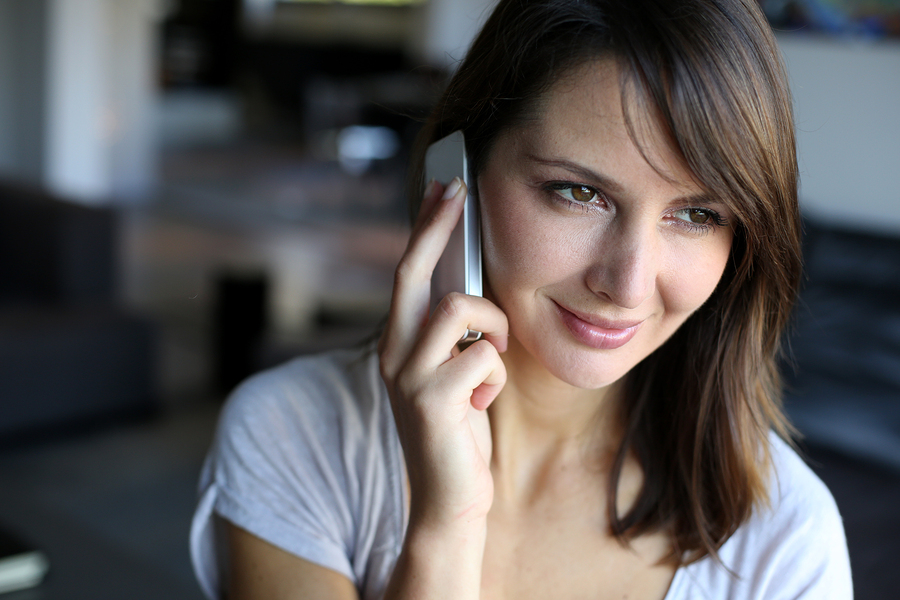phone: (390, 128, 517, 418)
talk: (385, 128, 735, 475)
